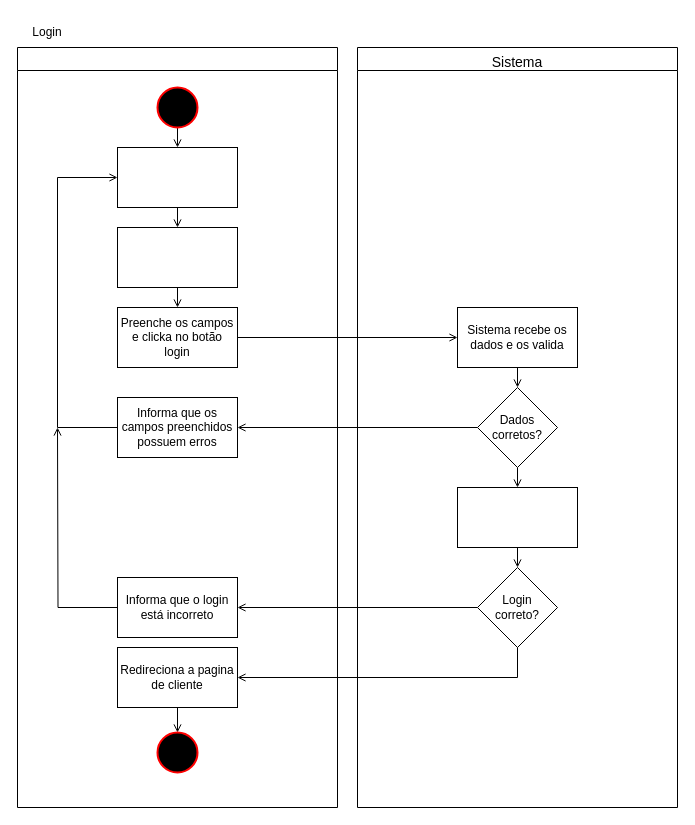
The diagram is 695 pixels wide and 825 high, and some of its shapes have lost their labels. Each missing label, with the box of its shape:
Cliente clicka em fazer login: (116, 226, 238, 288)
Costumer: (16, 46, 338, 808)
Sistema verifica se o usuário existe e se a senha é a correta: (456, 486, 578, 548)
Usuário estando na pagina de login: (116, 146, 238, 208)
